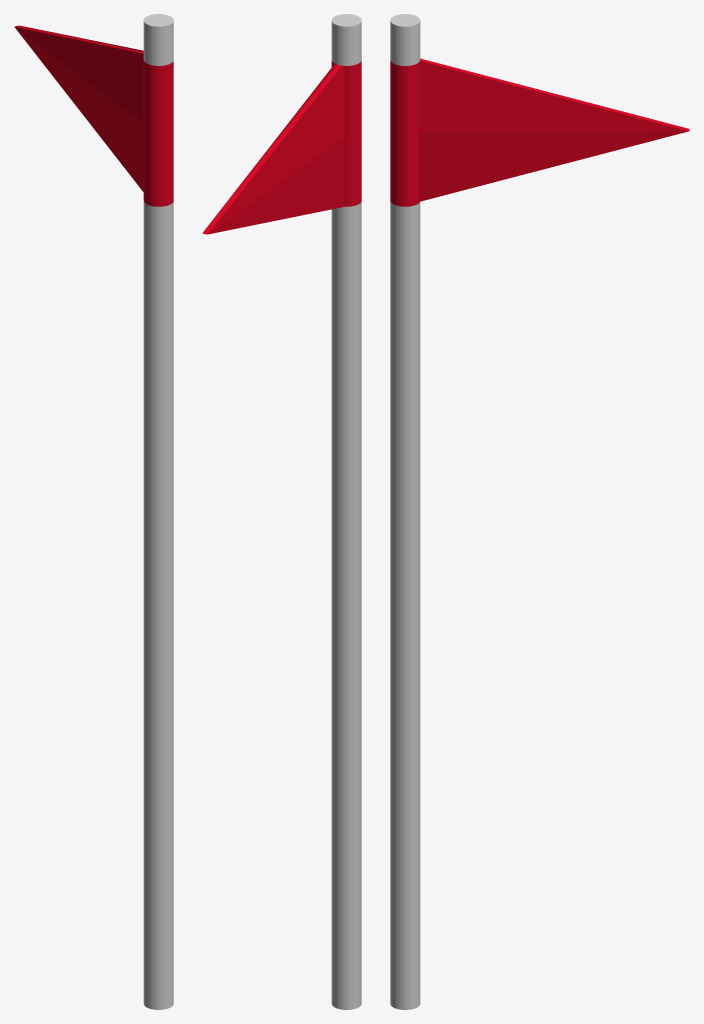
File: flag.fbx
3 renders of one model, left to right at view 1: azimuth 30°, elevation 25°; view 2: azimuth 150°, elevation 25°; view 3: azimuth 270°, elevation 25°, orthographic.
Parts seen in each view (by area): view 1: Cylinder; view 2: Cylinder; view 3: Cylinder.
Boxes of the visible parts, x1,y1,x2,y2 form: Cylinder: [14, 14, 173, 1009]; Cylinder: [202, 14, 361, 1009]; Cylinder: [390, 14, 689, 1009].
Size of the model in its own units: 5.54 by 200 by 55.18.
